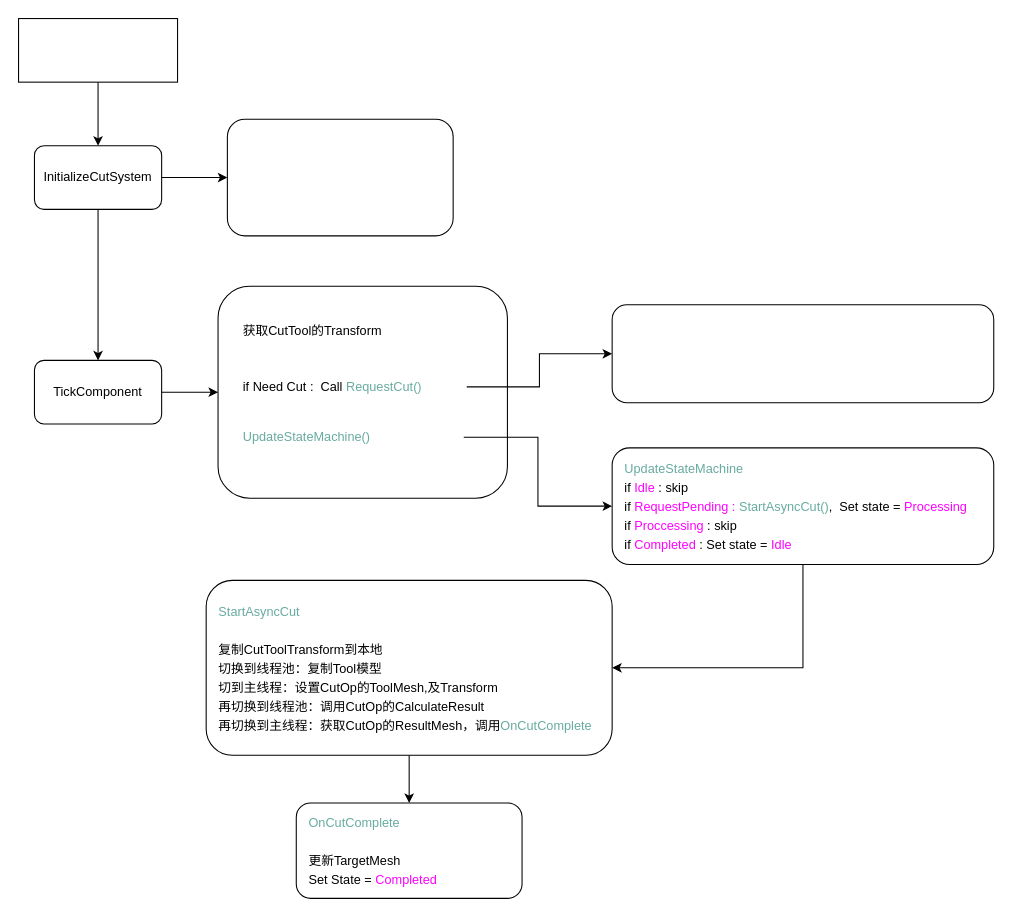
Image size: 1012x917. Some labels were removed from this diagram. Each missing label, with the box of its shape:
RequestCut if Idle || Completed : Set state = RequestPending: (611, 304, 994, 403)
VoxelCutComponent: (17, 17, 178, 82)
生成CutOp实例 从属性中设置CutOp参数 设置CutOp的TargetMesh 以及TargetTransform: (226, 118, 453, 236)
